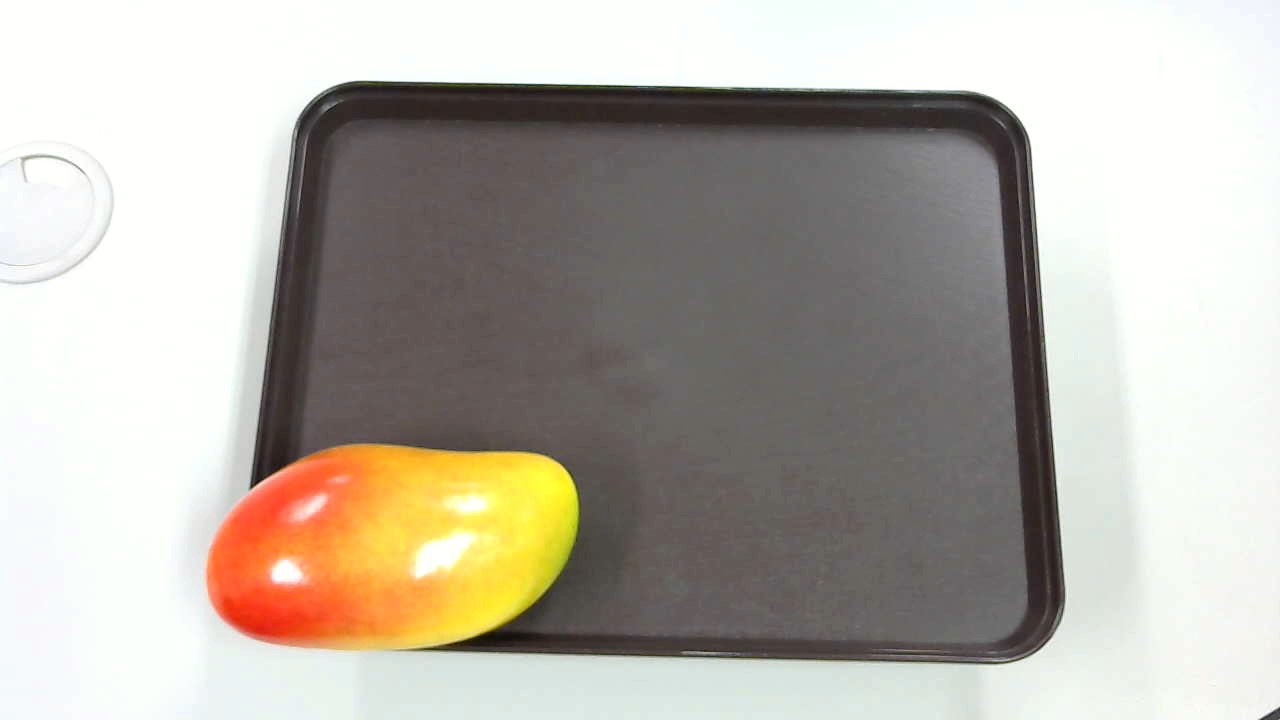red mango: (191, 432, 588, 663)
